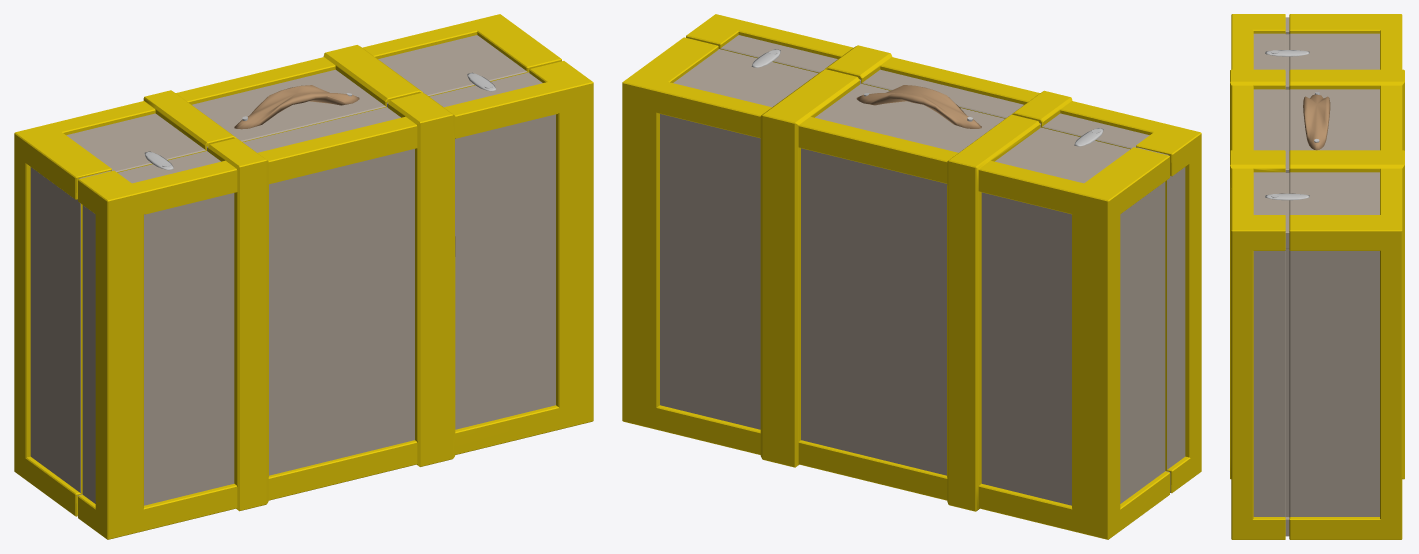
The model's file is Suitcase.fbx.
3 views of the same model, side by side, from view 1: azimuth 30°, elevation 25°; view 2: azimuth 150°, elevation 25°; view 3: azimuth 270°, elevation 25° (orthographic). The views are drawn at different scales.
Visible parts, largest first — view 1: pCube1, Suitcase_Handle; view 2: pCube1, Suitcase_Handle; view 3: pCube1, Suitcase_Handle, Suitcase_Latch_2, Suitcase_Latch_1.
Part boxes in pixels (box(x1,y1,x2,y2)): pCube1: box(14, 14, 593, 539); Suitcase_Handle: box(234, 85, 359, 129); pCube1: box(622, 14, 1201, 539); Suitcase_Handle: box(856, 85, 981, 128); pCube1: box(1230, 14, 1404, 539); Suitcase_Handle: box(1303, 94, 1330, 150); Suitcase_Latch_2: box(1265, 193, 1309, 200); Suitcase_Latch_1: box(1265, 50, 1309, 56).
Size of the model in its own units: 75 by 52.91 by 25.58.
